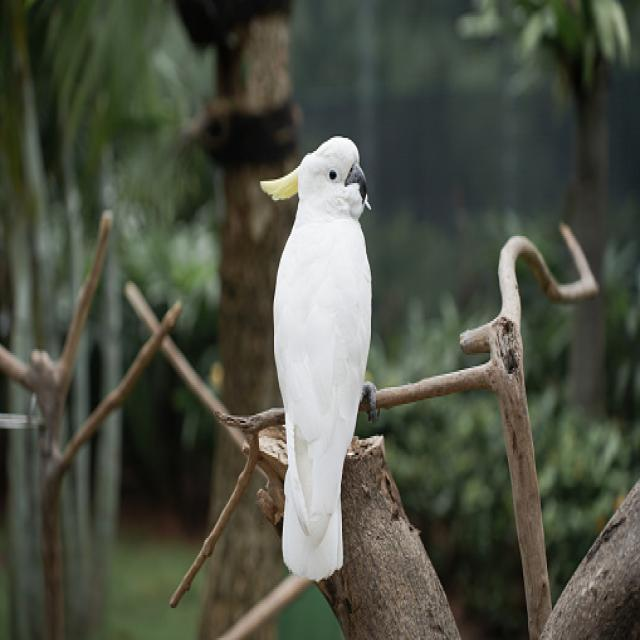Kakatua Putih: (236, 118, 413, 593)
